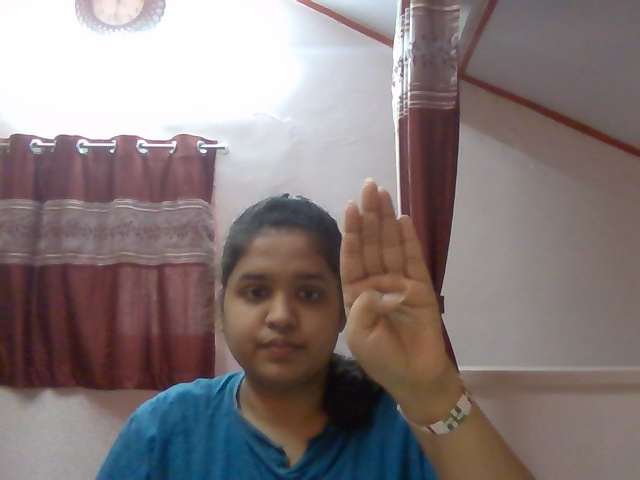b: (308, 171, 464, 389)
